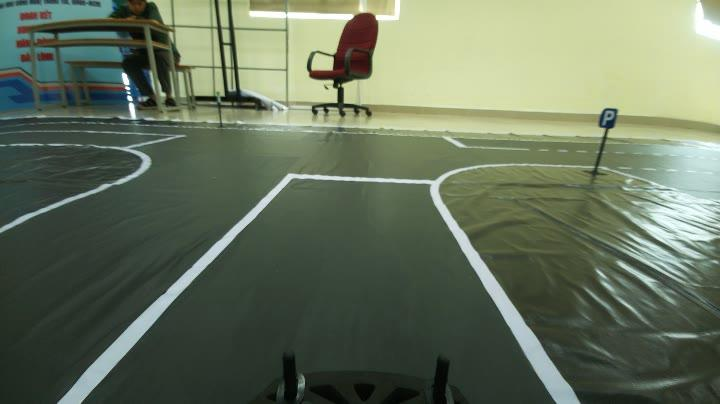parking: (594, 103, 622, 132)
